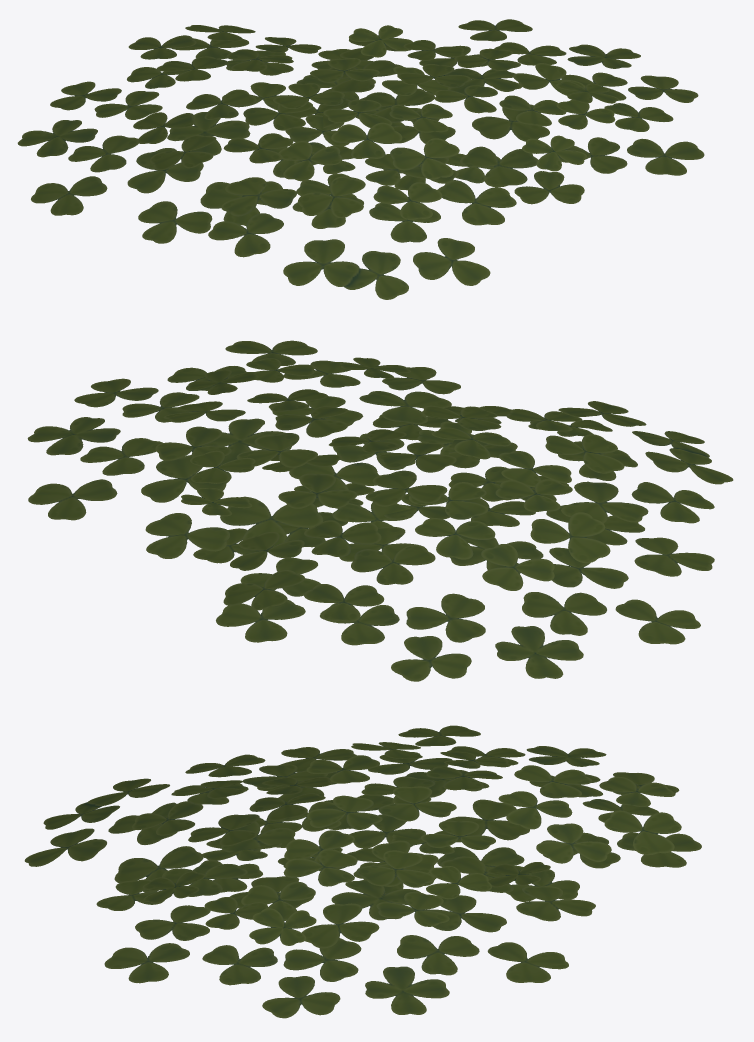
The model's file is MSH_fwOF_Clover_01.fbx.
3 views of the same model, one above another, from view 1: azimuth 30°, elevation 25°; view 2: azimuth 150°, elevation 25°; view 3: azimuth 270°, elevation 25° (orthographic). The views are drawn at different scales.
Visible parts, largest first — view 1: MSH_fwOF_Clover_01; view 2: MSH_fwOF_Clover_01; view 3: MSH_fwOF_Clover_01.
Part boxes in pixels (x1=…): MSH_fwOF_Clover_01: x1=17, y1=19, x2=704, y2=299; MSH_fwOF_Clover_01: x1=27, y1=340, x2=733, y2=681; MSH_fwOF_Clover_01: x1=24, y1=725, x2=701, y2=1018.
Size of the model in its own units: 0.4382 by 0.0447 by 0.4037.
